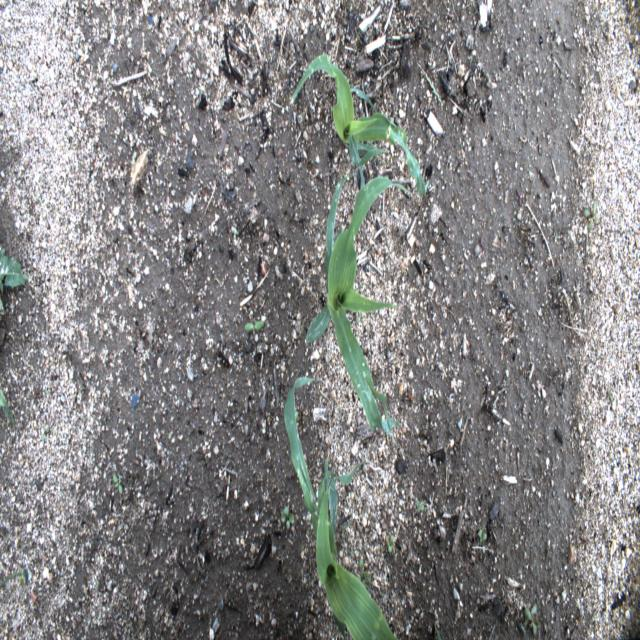crop: (284, 377, 401, 639), (306, 172, 409, 441), (290, 54, 430, 199), (0, 386, 16, 428)
weed: (1, 247, 30, 314), (336, 489, 354, 559), (417, 62, 442, 104), (351, 20, 372, 68), (356, 558, 371, 594), (583, 199, 599, 232), (0, 570, 27, 589), (523, 605, 539, 634), (522, 605, 537, 631), (280, 504, 295, 529), (243, 320, 263, 336), (112, 472, 124, 494), (39, 424, 50, 443), (387, 532, 395, 554), (477, 527, 487, 542), (415, 498, 425, 512), (606, 385, 613, 403), (530, 452, 537, 468), (434, 626, 442, 640), (422, 392, 429, 407), (522, 602, 530, 612), (35, 194, 42, 204), (294, 410, 299, 422), (166, 430, 171, 441), (233, 227, 237, 240), (230, 597, 235, 607), (361, 312, 364, 324)
